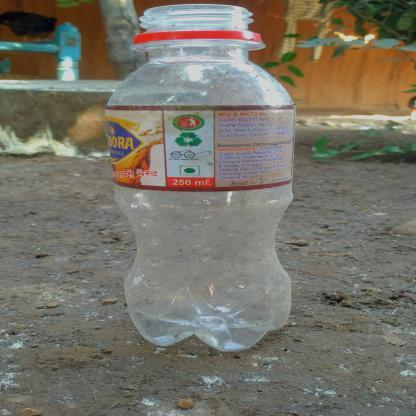bottle: (89, 0, 320, 357)
